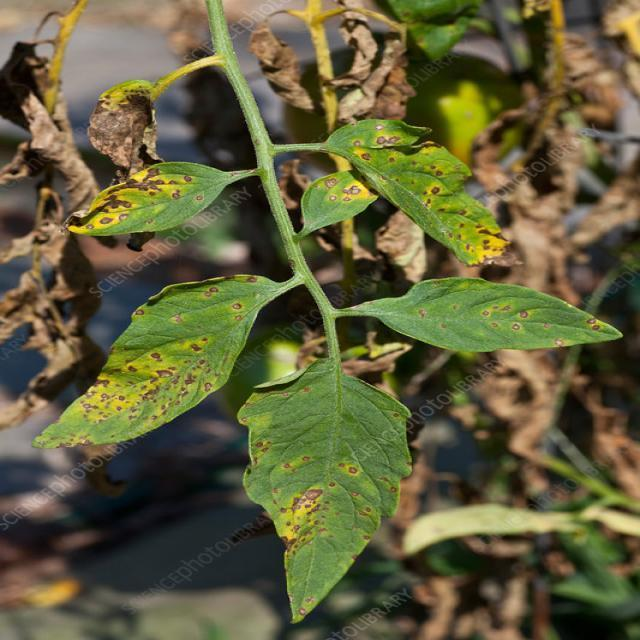Septoria: (38, 282, 288, 440), (245, 423, 394, 566), (344, 123, 504, 255), (412, 285, 600, 353), (84, 166, 240, 233), (310, 174, 368, 204)
